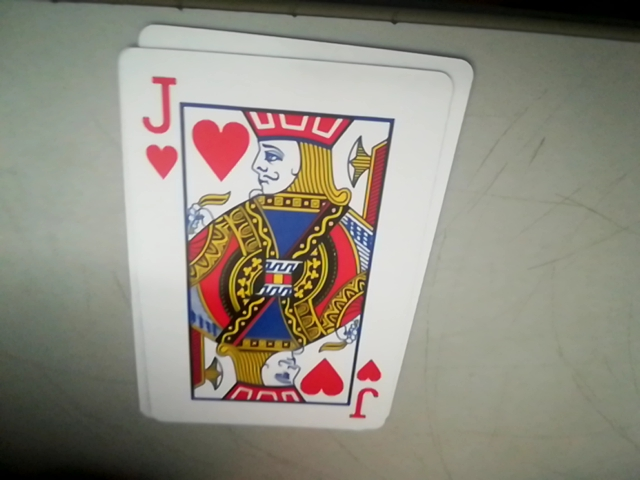hx j: (140, 70, 180, 185), (347, 359, 382, 422)
